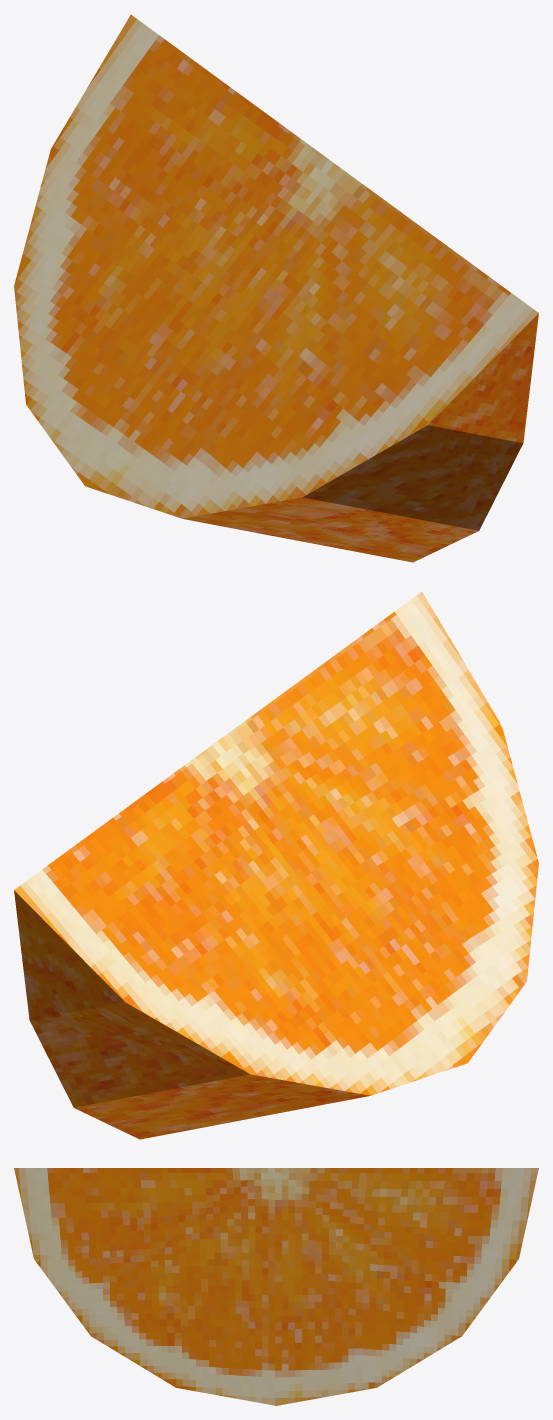
File: orangePart.fbx
The picture shows the model from 3 angles, top to bottom: view 1: azimuth 30°, elevation 25°; view 2: azimuth 150°, elevation 25°; view 3: azimuth 270°, elevation 25°; orthographic projection. The views are drawn at different scales.
Visible parts, largest first — view 1: OrangePart; view 2: OrangePart; view 3: OrangePart.
Part boxes in pixels (x1,y1,x2,y2): OrangePart: [14, 14, 538, 562]; OrangePart: [14, 591, 538, 1139]; OrangePart: [14, 1168, 538, 1405].
Bounding box in the file's own units: 70.71 × 100 × 200.
2 materials, 2 textured.
